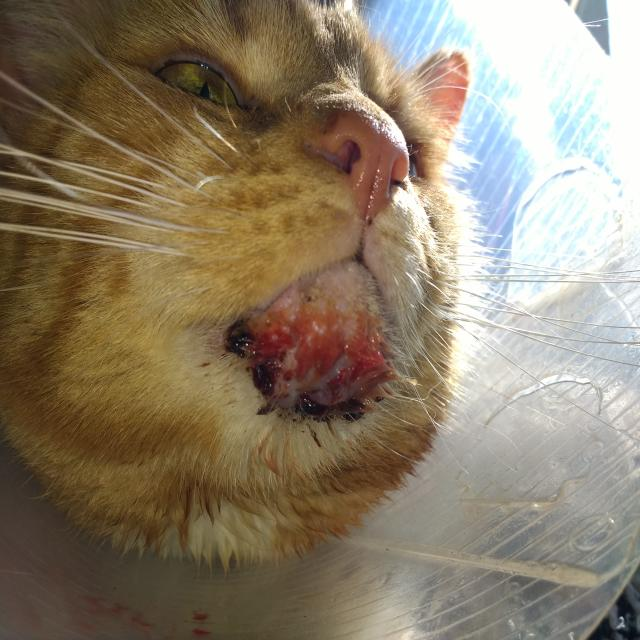cat-acne: (249, 306, 377, 418)
